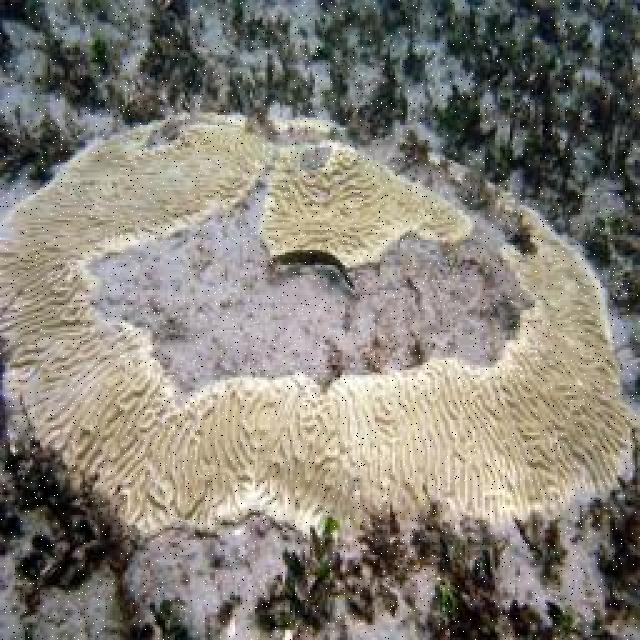aquatic plants: (310, 0, 638, 306), (255, 424, 638, 638), (20, 0, 218, 122), (0, 452, 135, 624), (215, 0, 322, 115), (110, 576, 241, 638), (3, 99, 88, 186)
fish: (272, 249, 357, 292)
reefs: (0, 108, 634, 569)
